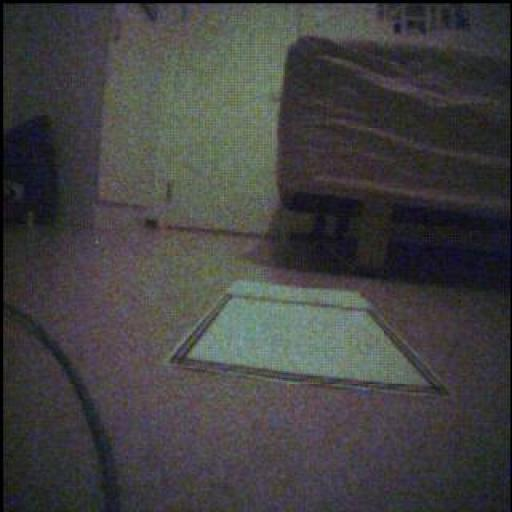pad: (171, 283, 448, 396)
